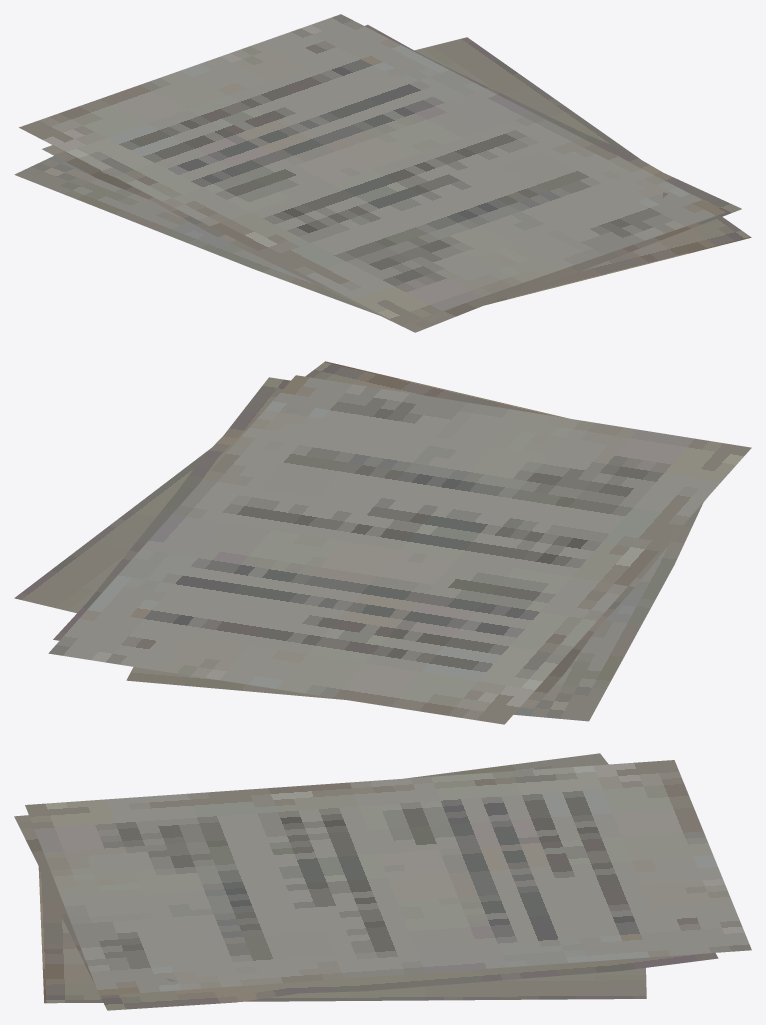
Rendered from 004_Document.fbx.
3 views of the same model, one above another, from view 1: azimuth 30°, elevation 25°; view 2: azimuth 150°, elevation 25°; view 3: azimuth 270°, elevation 25° (orthographic). The views are drawn at different scales.
Parts seen in each view (by area): view 1: LOD_1_Group_0_Sub_1__sm7x_ItemCommon_Document01A_A_Mat; view 2: LOD_1_Group_0_Sub_1__sm7x_ItemCommon_Document01A_A_Mat; view 3: LOD_1_Group_0_Sub_1__sm7x_ItemCommon_Document01A_A_Mat.
Part boxes in pixels (x1,y1,x2,y2): LOD_1_Group_0_Sub_1__sm7x_ItemCommon_Document01A_A_Mat: (14, 14, 751, 332); LOD_1_Group_0_Sub_1__sm7x_ItemCommon_Document01A_A_Mat: (14, 361, 751, 724); LOD_1_Group_0_Sub_1__sm7x_ItemCommon_Document01A_A_Mat: (14, 753, 751, 1010).
Bounding box in the file's own units: 0.3086 × 0.00815 × 0.3605.
